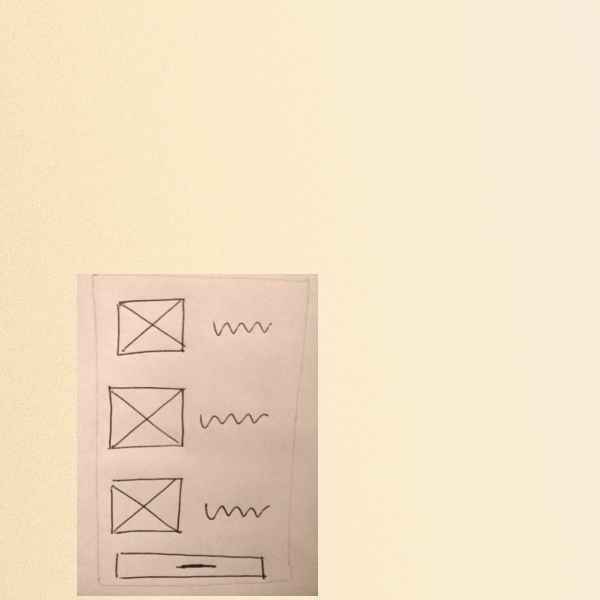button: (105, 549, 272, 580)
image: (105, 381, 187, 451), (104, 473, 186, 543), (113, 297, 189, 360)
text: (198, 496, 276, 525), (196, 406, 273, 435), (210, 313, 274, 347)
